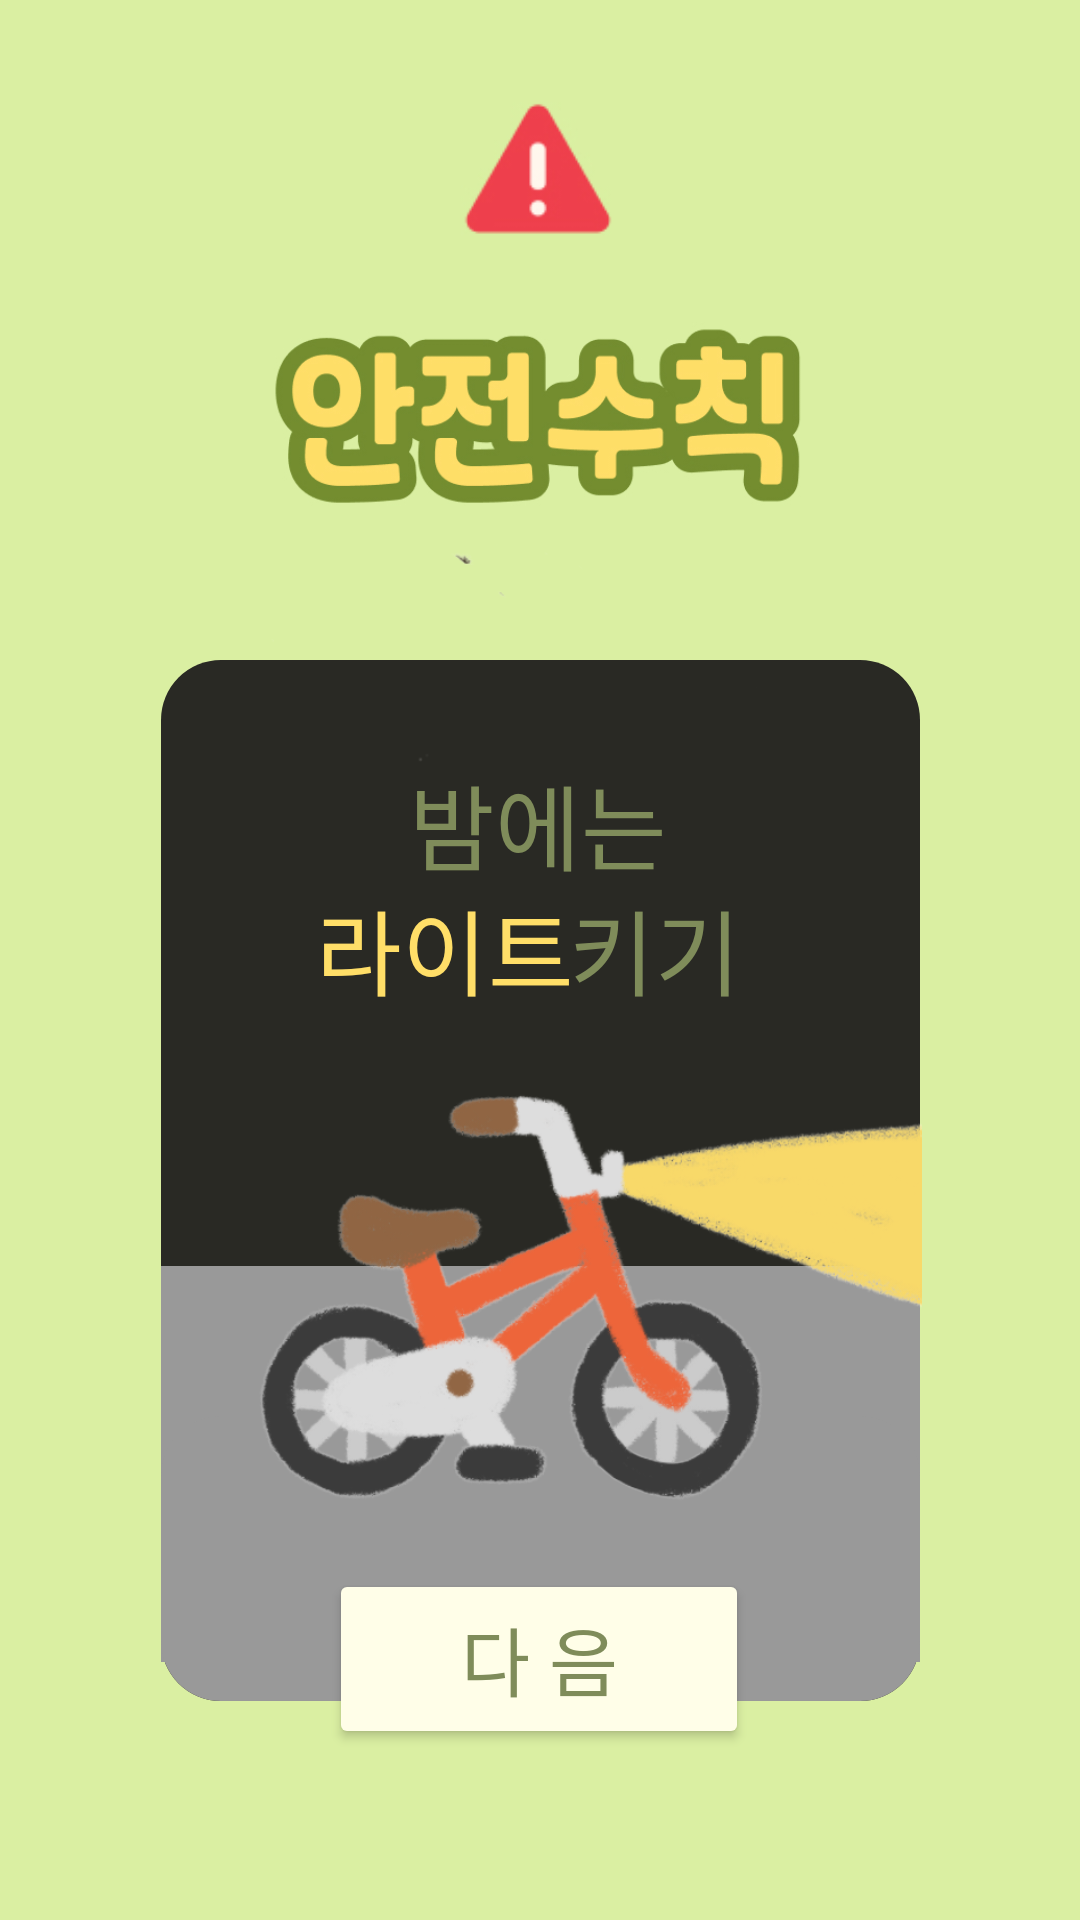

Where icons sit on this 1080 x 1920 app screen, as detection(x1, y1, x2, y2):
warning: detection(465, 104, 611, 234)
